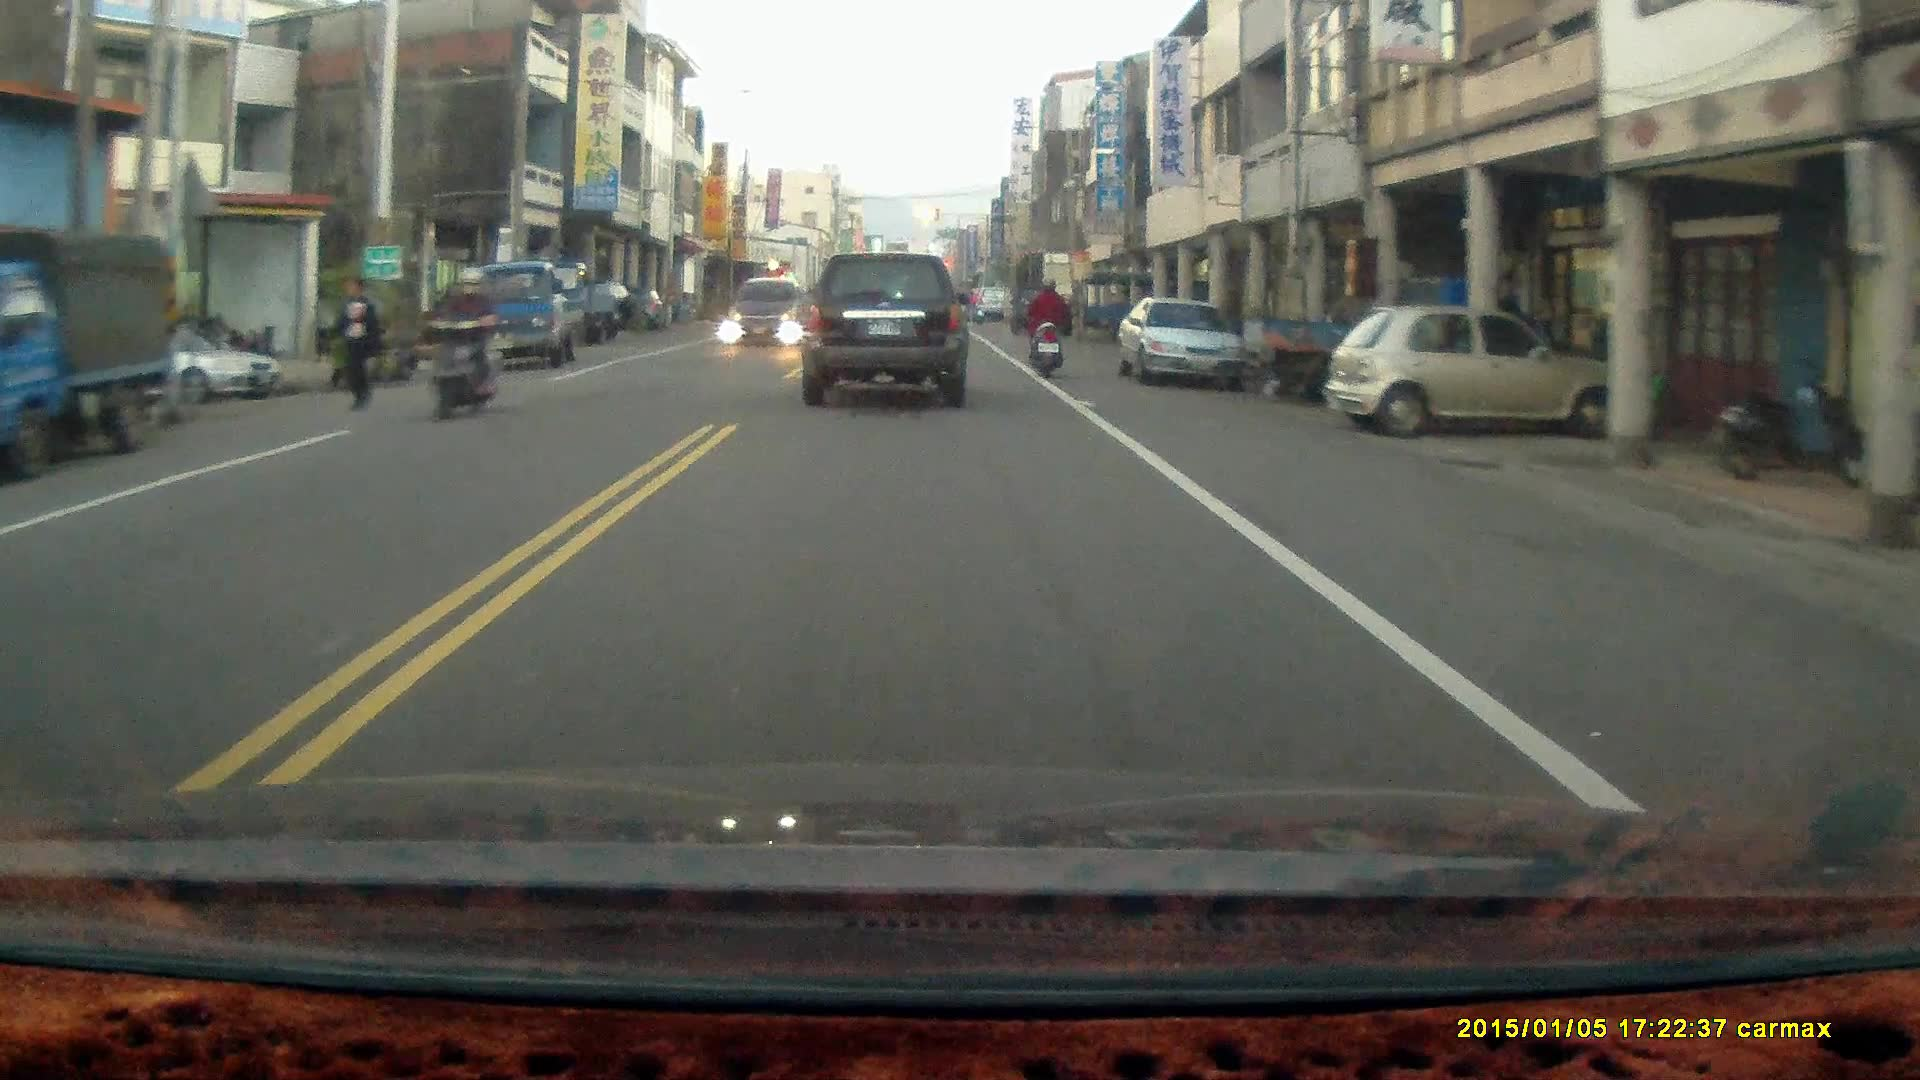pedestrian: (326, 273, 384, 413)
rider: (418, 260, 495, 425), (1026, 274, 1067, 376)
vehicle: (1, 226, 182, 486), (1332, 307, 1627, 441), (795, 251, 972, 414), (459, 265, 607, 374), (110, 317, 277, 403), (1118, 302, 1253, 390), (726, 276, 805, 348)
